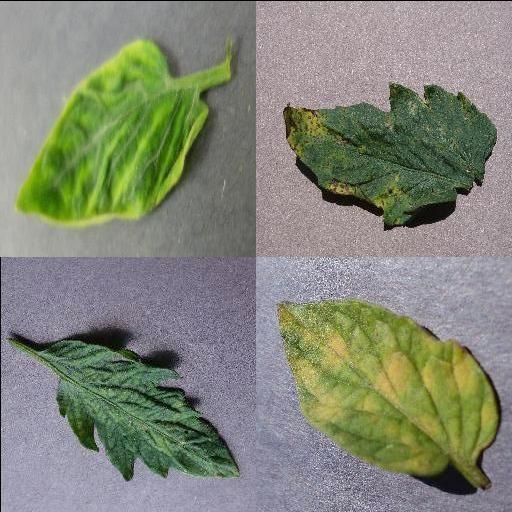Leaf Mold: (275, 298, 499, 474)
Mosaic Virus: (37, 336, 240, 480)
Septoria: (284, 81, 498, 225)
Yellow Leaf Curl Virus: (13, 37, 209, 225)
